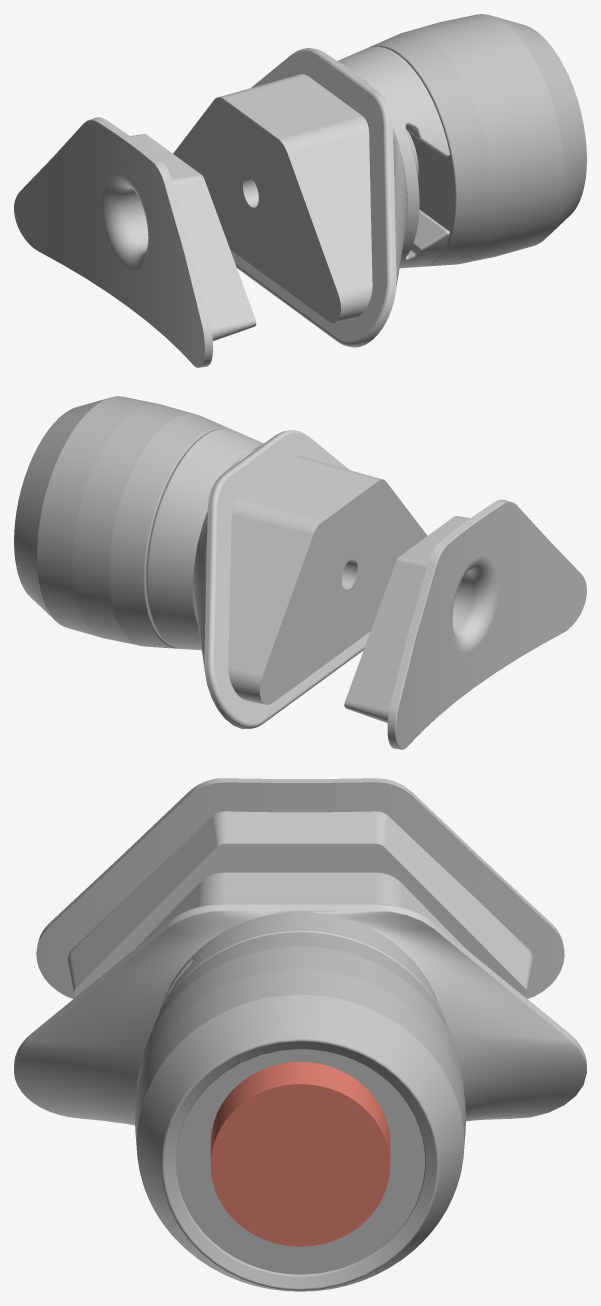
3 views of the same model, one above another, from view 1: azimuth 30°, elevation 25°; view 2: azimuth 150°, elevation 25°; view 3: azimuth 270°, elevation 25° (orthographic). The views are drawn at different scales.
Parts seen in each view (by area): view 1: Body1.001, Body1, Body3, Body2.001; view 2: Body1.001, Body3, Body1, Body2.001; view 3: Body1, Body1.001, Body3, Body2, Body2.001.
Boxes of the visible parts, x1=… form: Body1.001: x1=173, y1=46, x2=449, y2=347; Body1: x1=369, y1=14, x2=586, y2=266; Body3: x1=14, y1=117, x2=256, y2=367; Body2.001: x1=338, y1=46, x2=449, y2=268; Body1.001: x1=146, y1=430, x2=427, y2=728; Body3: x1=344, y1=499, x2=586, y2=749; Body1: x1=14, y1=396, x2=231, y2=648; Body2.001: x1=146, y1=428, x2=263, y2=650; Body1: x1=134, y1=932, x2=465, y2=1291; Body1.001: x1=14, y1=872, x2=586, y2=1125; Body3: x1=36, y1=778, x2=564, y2=998; Body2: x1=210, y1=1062, x2=390, y2=1246; Body2.001: x1=158, y1=912, x2=444, y2=1019.
Size of the model in its own units: 5.45 by 2.66 by 4.6.
